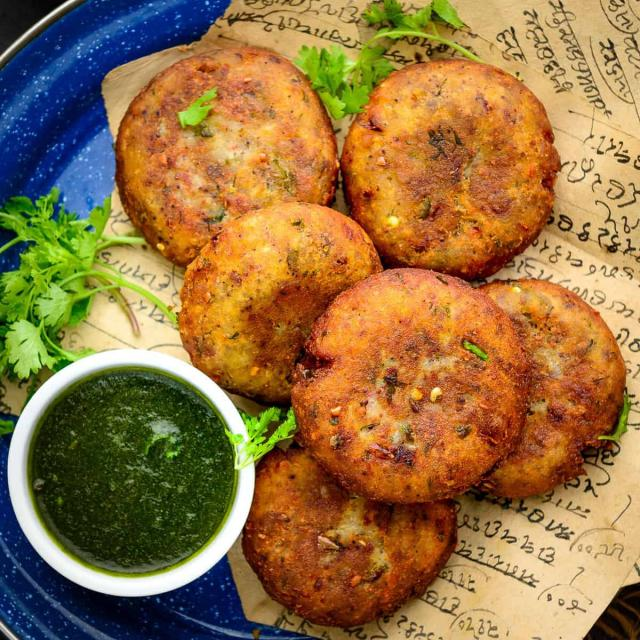Aloo Tikki: (294, 268, 522, 502), (115, 50, 337, 269), (344, 59, 558, 278), (241, 436, 454, 624), (180, 205, 383, 402), (481, 279, 625, 499)
